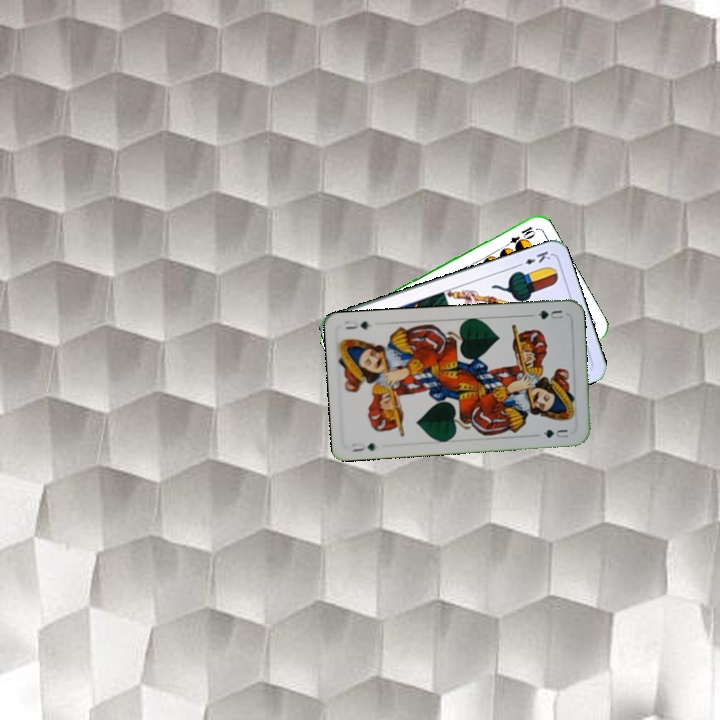E10: (499, 222, 538, 251)
EK: (513, 247, 553, 270)
GU: (534, 306, 565, 322), (347, 438, 378, 454)
